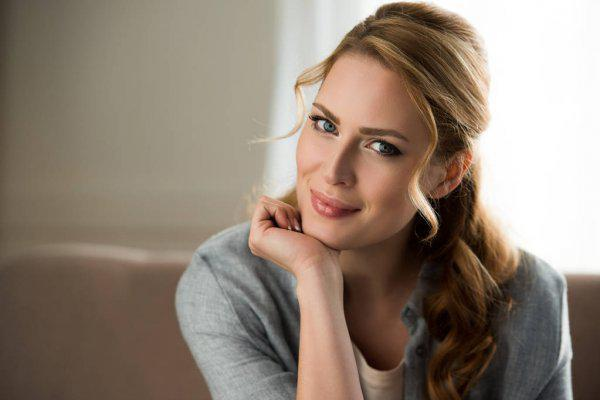Sober: (301, 67, 412, 234)
